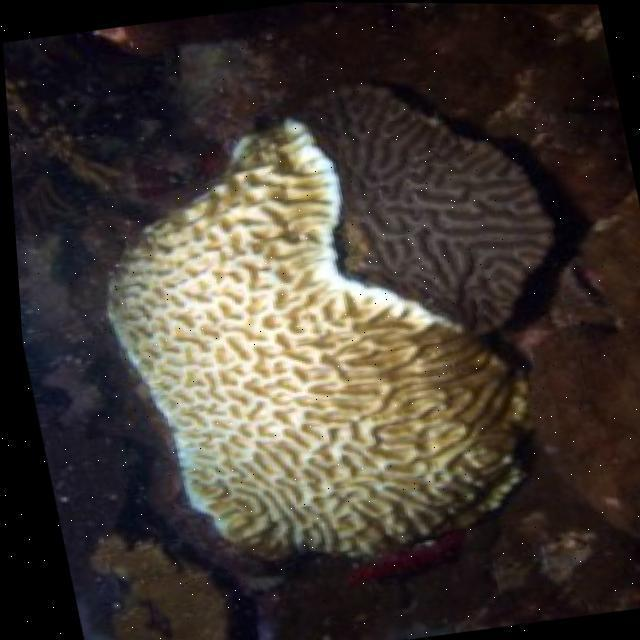Bleached Coral: (115, 107, 453, 602)
